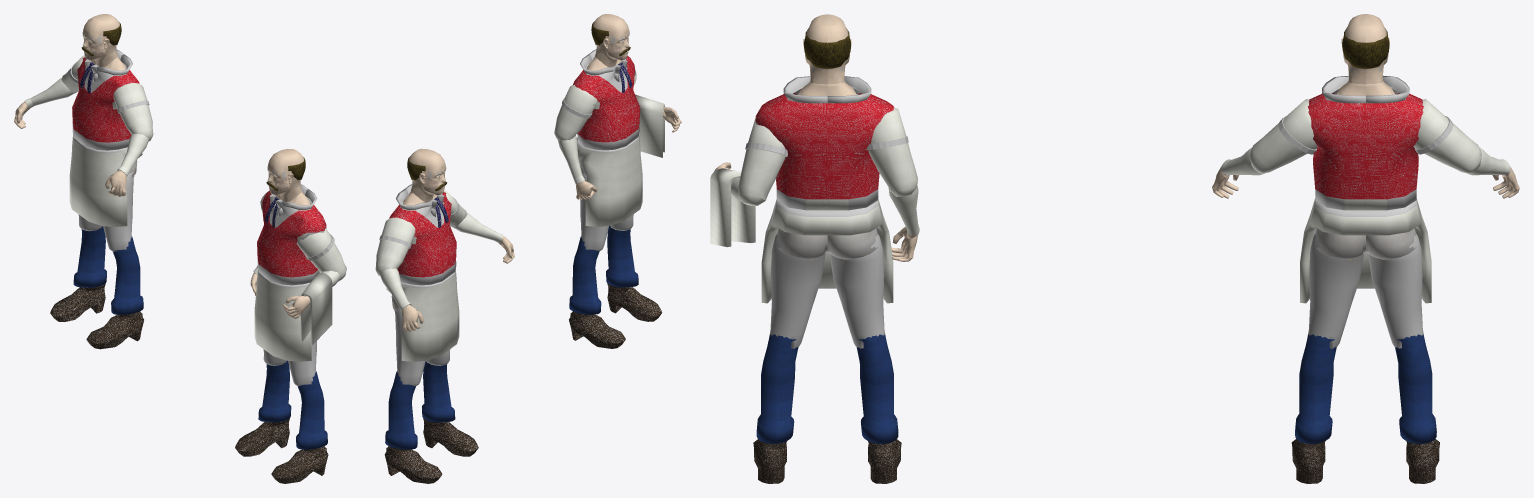
3 views of the same model, side by side, from view 1: azimuth 30°, elevation 25°; view 2: azimuth 150°, elevation 25°; view 3: azimuth 270°, elevation 25° (orthographic). The views are drawn at different scales.
Visible parts, largest first — view 1: Gruppe_104 (×4), group_28 (×6), group_3 (×6), Gruppe_88 (×6), group_15 (×3), Gruppe_30 (×2), Gruppe_161, group_4 (×3), group_7 (×2); view 2: Gruppe_104 (×4), group_28 (×6), group_3 (×6), Gruppe_88 (×6), group_15 (×4), Gruppe_30 (×2), group_4 (×3), group_7 (×3), Gruppe_161; view 3: group_28 (×4), group_4 (×4), group_3 (×4), group_15 (×4), Gruppe_104 (×4), Gruppe_88 (×4), Gruppe_107 (×4), Gruppe_161.
Part boxes in pixels (x1,y1,x2,y2): Gruppe_104 (×4): [69, 135, 311, 361]; group_28 (×6): [72, 57, 326, 285]; group_3 (×6): [73, 226, 327, 449]; Gruppe_88 (×6): [50, 282, 328, 483]; group_15 (×3): [113, 82, 346, 281]; Gruppe_30 (×2): [83, 18, 304, 201]; Gruppe_161: [300, 272, 332, 345]; group_4 (×3): [103, 171, 316, 386]; group_7 (×2): [25, 78, 142, 175]; Gruppe_104 (×4): [402, 135, 642, 361]; group_28 (×6): [398, 56, 640, 285]; group_3 (×6): [385, 225, 638, 449]; Gruppe_88 (×6): [384, 281, 662, 483]; group_15 (×4): [375, 84, 597, 275]; Gruppe_30 (×2): [413, 15, 629, 201]; group_4 (×3): [394, 173, 608, 386]; group_7 (×3): [386, 135, 584, 310]; Gruppe_161: [635, 94, 664, 157]; group_28 (×4): [755, 93, 1423, 199]; group_4 (×4): [769, 233, 1423, 348]; group_3 (×4): [756, 334, 1436, 443]; group_15 (×4): [738, 103, 1481, 205]; Gruppe_104 (×4): [761, 199, 1431, 303]; Gruppe_88 (×4): [753, 438, 1439, 483]; Gruppe_107 (×4): [777, 228, 1416, 259]; Gruppe_161: [710, 168, 755, 247].
Size of the model in its own units: 19.37 by 125 by 76.64.
